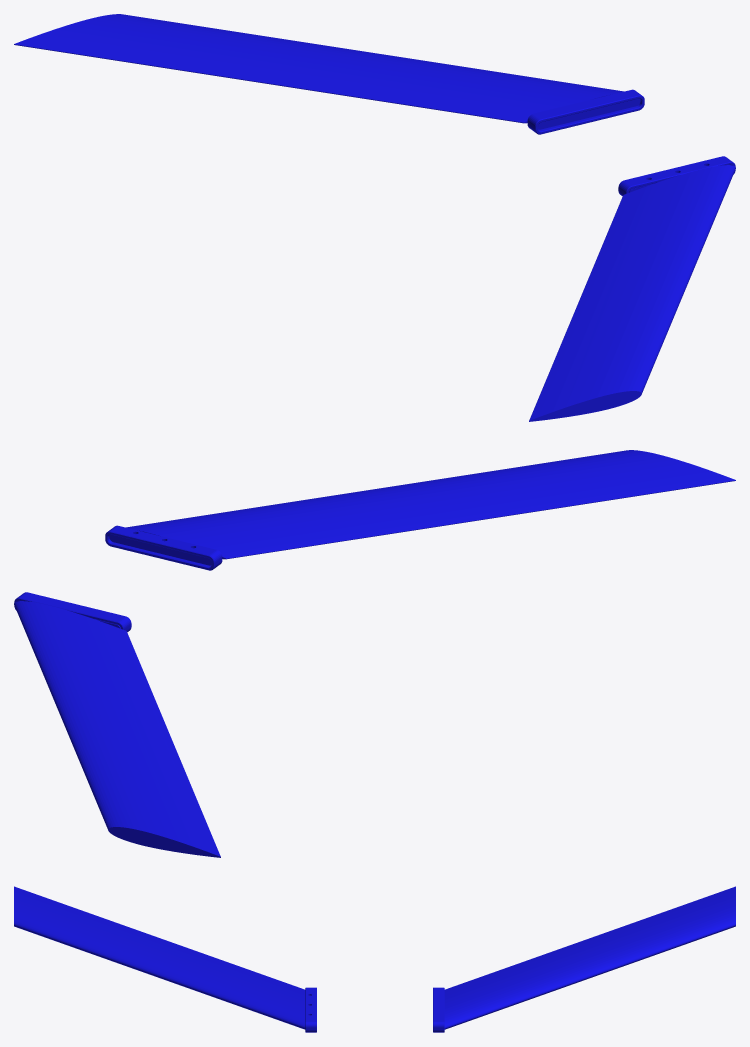
Rendered from wing.dae.
3 views of the same model, one above another, from view 1: azimuth 30°, elevation 25°; view 2: azimuth 150°, elevation 25°; view 3: azimuth 270°, elevation 25° (orthographic). The views are drawn at different scales.
Parts seen in each view (by area): view 1: Wing; view 2: Wing; view 3: Wing.
Boxes of the visible parts, box(x1,y1,x2,y2) form: Wing: box(14, 14, 735, 421); Wing: box(14, 450, 735, 857); Wing: box(14, 886, 735, 1032).
Size of the model in its own units: 720 by 1547 by 25.
